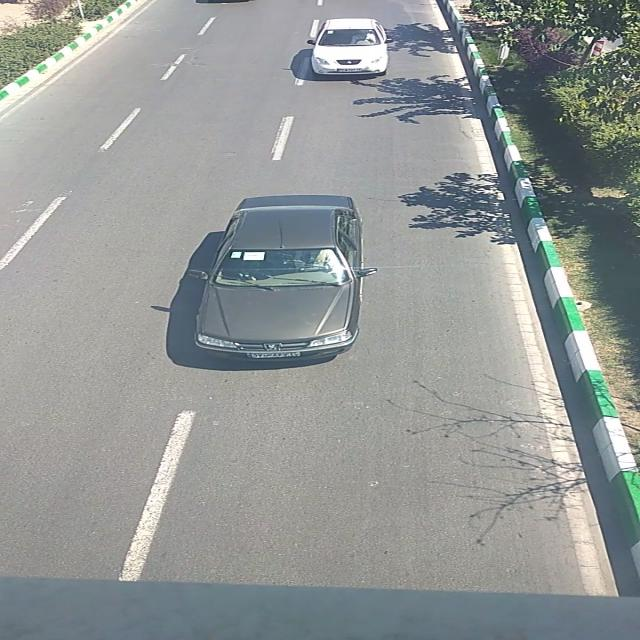car: (183, 195, 381, 362), (306, 19, 396, 75)
